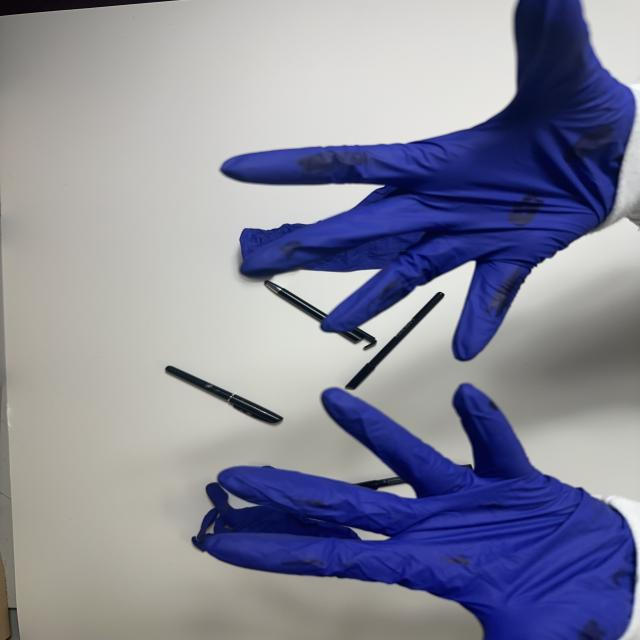gloves_contaminated: (222, 0, 636, 360), (194, 384, 638, 640)
